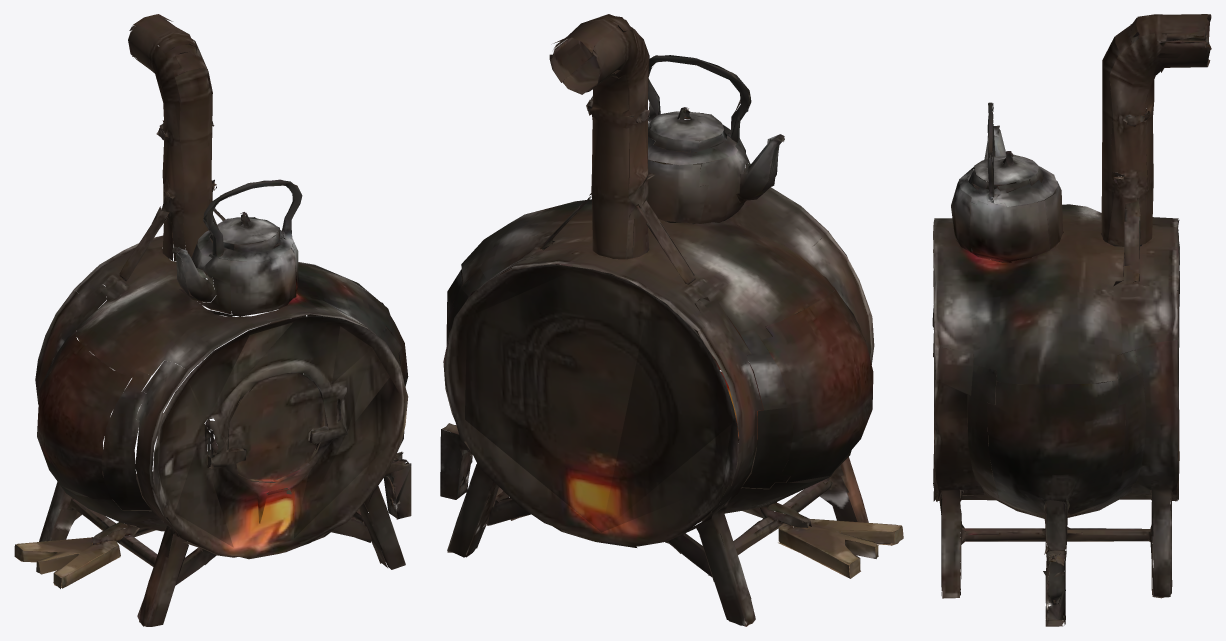
Rendered from basement_stove.glb.
The picture shows the model from 3 angles, left to right: view 1: azimuth 30°, elevation 25°; view 2: azimuth 150°, elevation 25°; view 3: azimuth 270°, elevation 25°; orthographic projection. The views are drawn at different scales.
Parts seen in each view (by area): view 1: lair_stove; view 2: lair_stove; view 3: lair_stove.
Boxes of the visible parts, bbox=[...] form: lair_stove: bbox=[14, 14, 411, 626]; lair_stove: bbox=[440, 14, 903, 626]; lair_stove: bbox=[932, 14, 1211, 626].
Bounding box in the file's own units: 1.39 × 1.76 × 0.861.
Materials: 1 (1 with a texture image).
